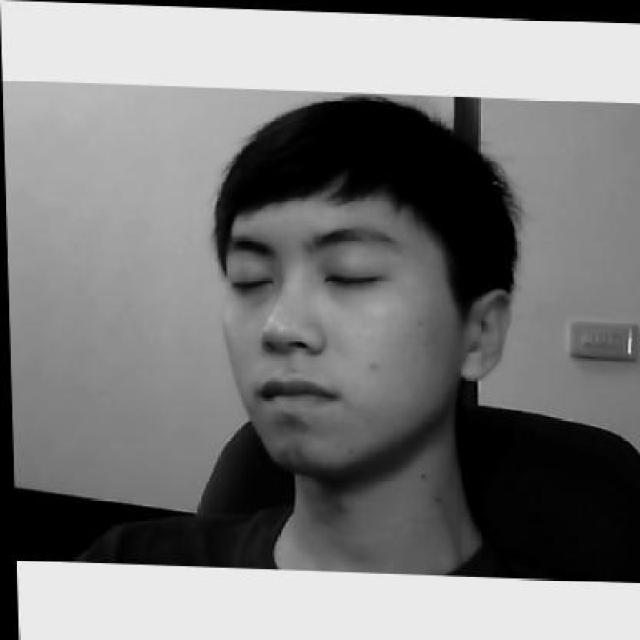inattentif: (208, 88, 518, 474)
